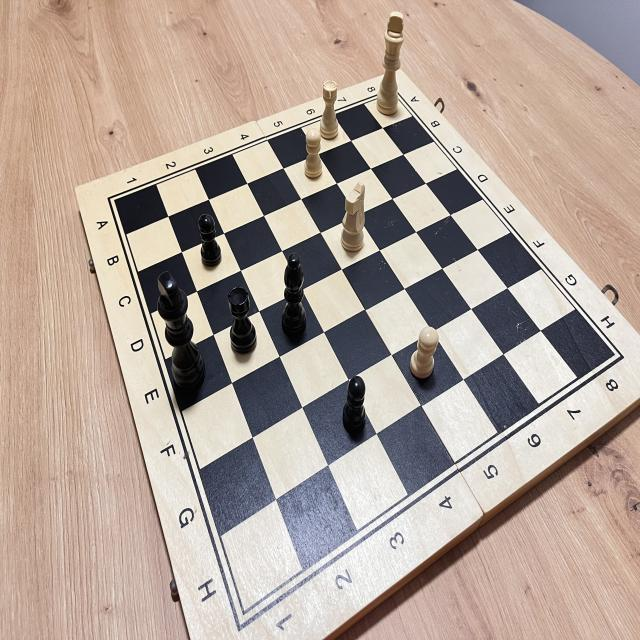black-bishop: (276, 249, 314, 341)
black-king: (149, 263, 210, 403)
black-pawn: (196, 207, 226, 276), (340, 372, 371, 438)
black-rook: (220, 281, 265, 360)
white-king: (372, 6, 407, 124)
white-knight: (336, 176, 370, 256)
white-pawn: (402, 322, 443, 388), (300, 126, 327, 188)
white-rook: (316, 69, 344, 149)
